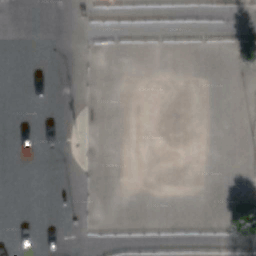car: (21, 223, 32, 251), (48, 227, 57, 252), (22, 138, 31, 159)
